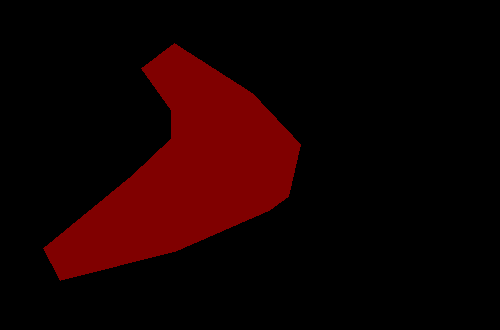fire: (43, 43, 300, 280)
